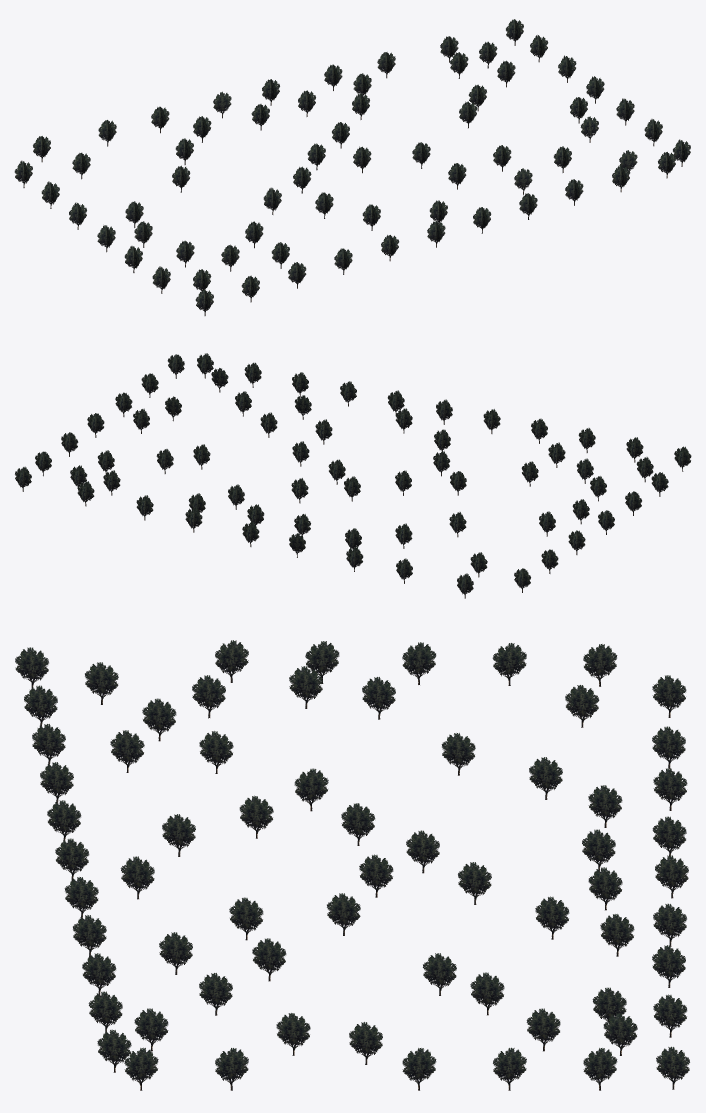
File: planeTree21.FBX
The picture shows the model from 3 angles, top to bottom: view 1: azimuth 30°, elevation 25°; view 2: azimuth 150°, elevation 25°; view 3: azimuth 270°, elevation 25°; orthographic projection. The views are drawn at different scales.
Visible parts, largest first — view 1: planeTree21; view 2: planeTree21; view 3: planeTree21.
Boxes of the visible parts, x1,y1,x2,y2 form: planeTree21: [14, 19, 690, 315]; planeTree21: [15, 353, 691, 598]; planeTree21: [15, 640, 689, 1090].
Size of the model in its own units: 5774 by 279 by 3908.
